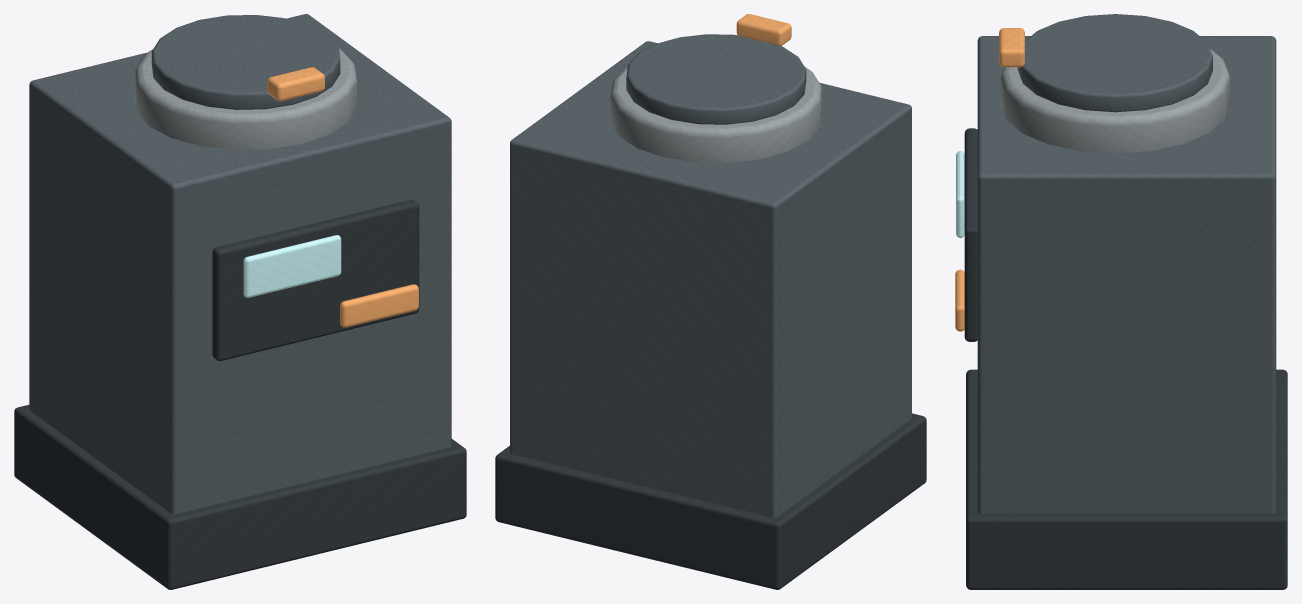
File: BenchMicrocentrifuge.glb
3 renders of one model, left to right at view 1: azimuth 30°, elevation 25°; view 2: azimuth 150°, elevation 25°; view 3: azimuth 270°, elevation 25°, orthographic. The views are drawn at different scales.
Parts seen in each view (by area): view 1: BenchMicrocentrifuge_Mesh; view 2: BenchMicrocentrifuge_Mesh; view 3: BenchMicrocentrifuge_Mesh.
Boxes of the visible parts, x1=… form: BenchMicrocentrifuge_Mesh: x1=14, y1=14, x2=466, y2=589; BenchMicrocentrifuge_Mesh: x1=495, y1=14, x2=926, y2=589; BenchMicrocentrifuge_Mesh: x1=955, y1=14, x2=1287, y2=589.
Size of the model in its own units: 0.62 by 0.9175 by 0.579.
Materials: 5 (5 with a texture image).
